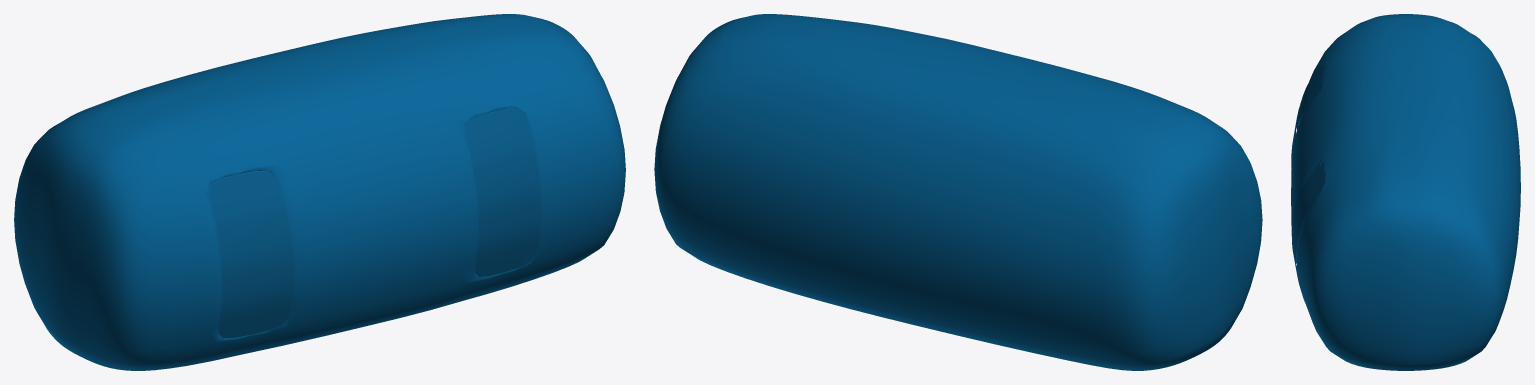
Rendered from train_cab2.gltf.
The picture shows the model from 3 angles, left to right: view 1: azimuth 30°, elevation 25°; view 2: azimuth 150°, elevation 25°; view 3: azimuth 270°, elevation 25°; orthographic projection. The views are drawn at different scales.
Parts seen in each view (by area): view 1: Sphere.021; view 2: Sphere.021; view 3: Sphere.021.
Boxes of the visible parts, x1,y1,x2,y2 form: Sphere.021: (14, 14, 625, 370); Sphere.021: (654, 14, 1262, 370); Sphere.021: (1291, 14, 1520, 370).
Bounding box in the file's own units: 6.02 × 2.42 × 2.75.
